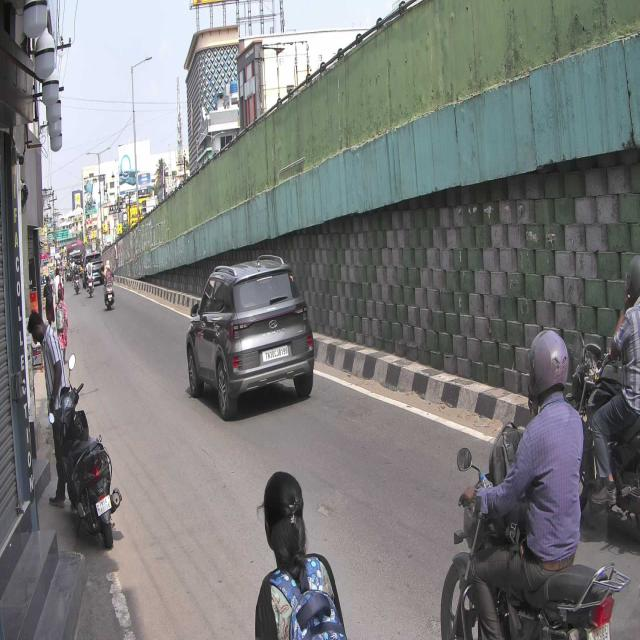single_rider: (441, 324, 611, 640)
